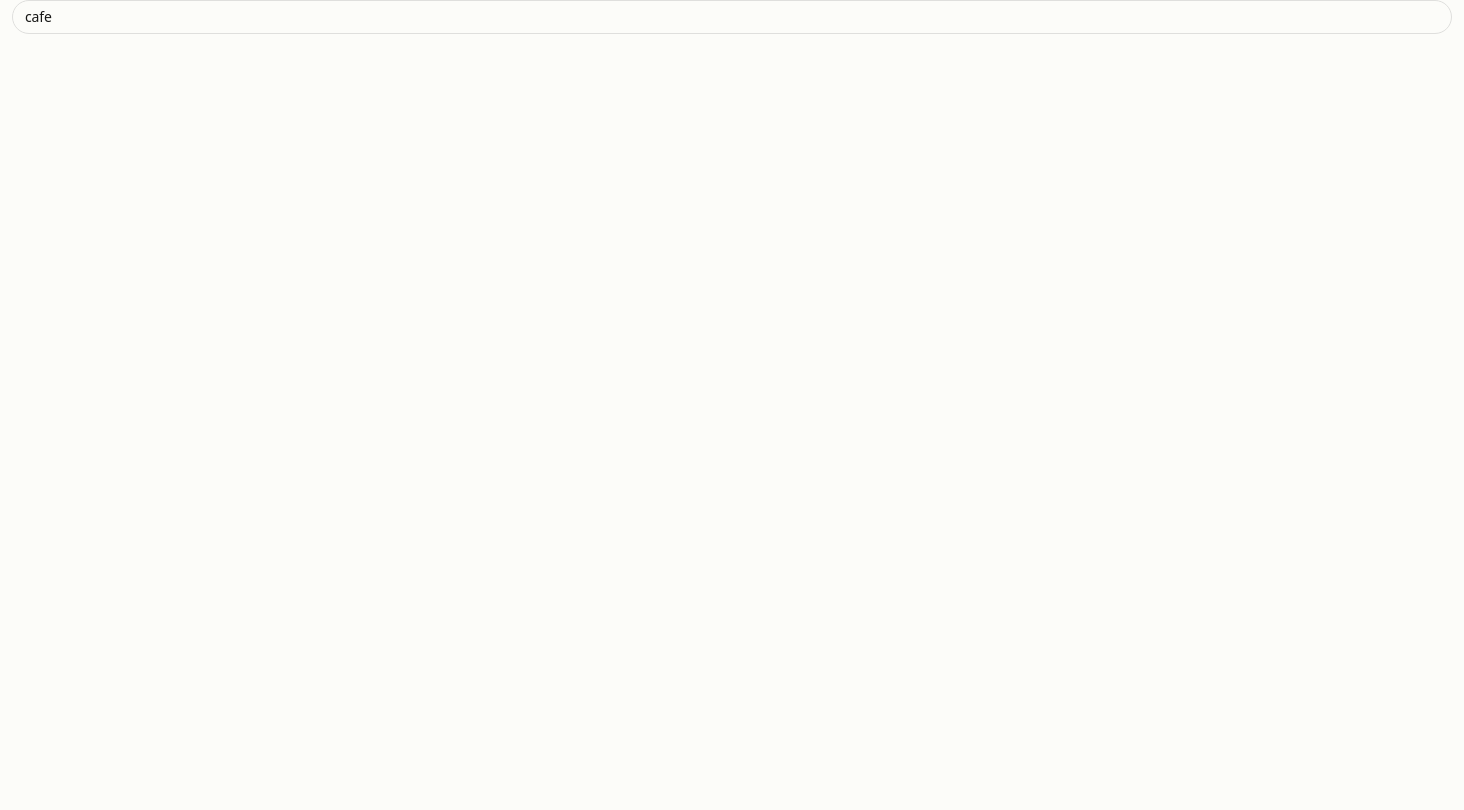
the results dropdown › puts itself away when a press lands outside the field, and comes back on focus
Earlier steps of the test are not shown.
Click the dropdown named "Add a place".
click(732, 17)  # box [12,0,1452,34]
(page scrolled)
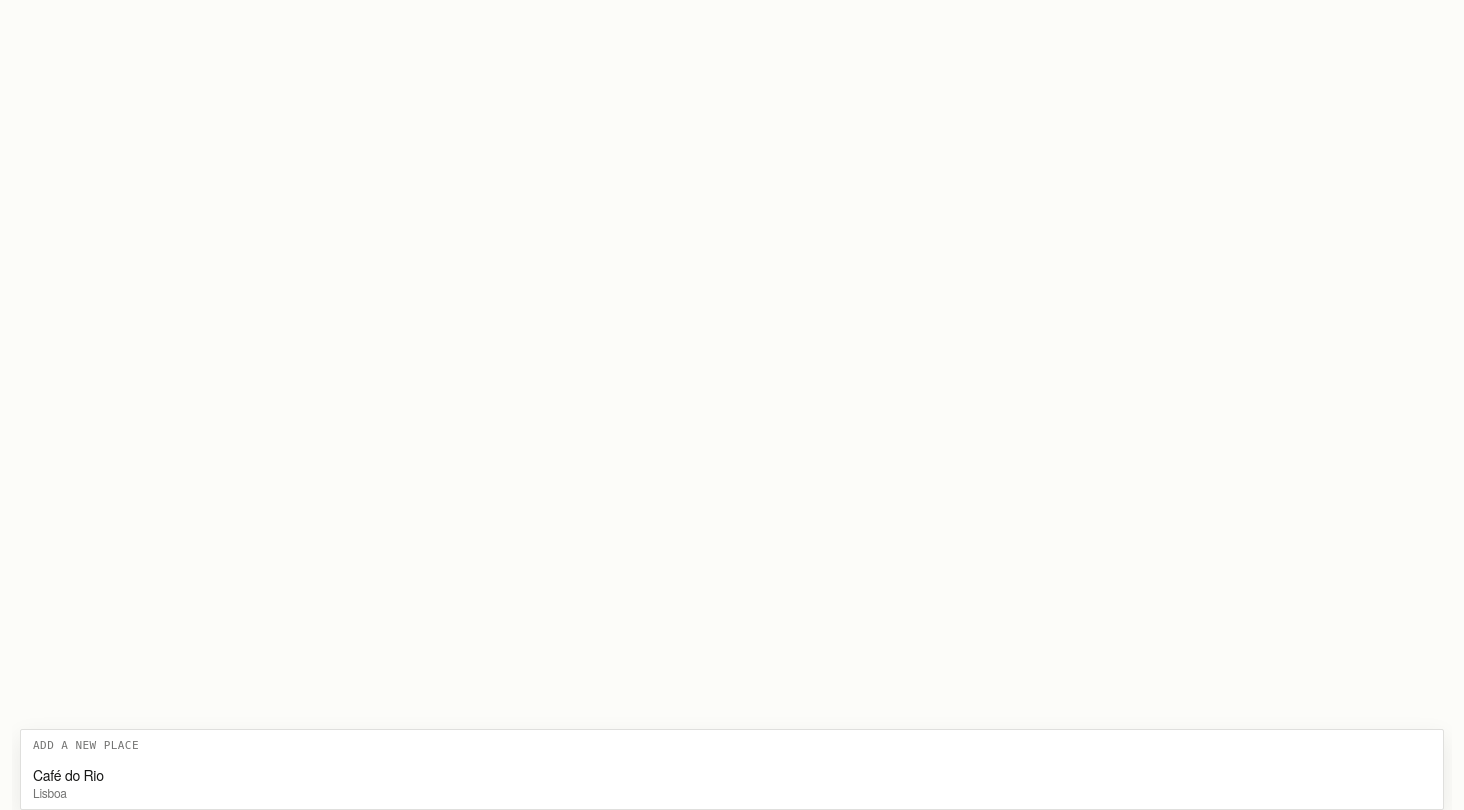
Check: the option "Café do Rio Lisboa" is shown, box [21,756,1443,808]
